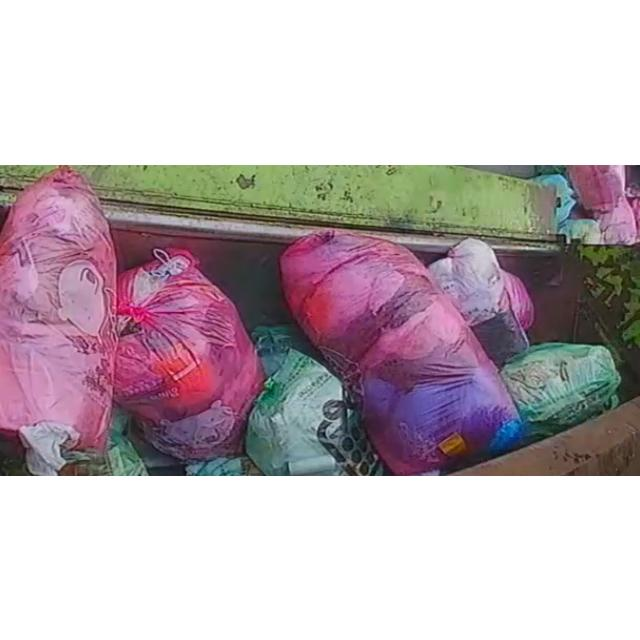general_trashbag: (246, 325, 382, 475), (500, 342, 621, 442)
other_trashbag: (280, 229, 519, 474), (0, 166, 116, 450), (114, 248, 264, 460), (429, 238, 534, 366), (568, 164, 638, 243)
